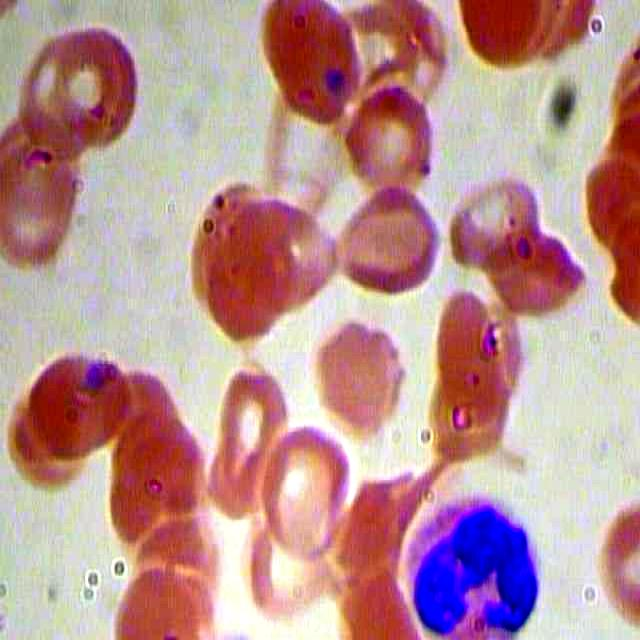RBC: (192, 200, 302, 347), (200, 355, 293, 521), (252, 423, 359, 557), (330, 177, 442, 303), (254, 1, 366, 124), (27, 337, 136, 459), (334, 77, 443, 199), (307, 314, 409, 438), (52, 22, 140, 150), (477, 220, 590, 317), (444, 172, 550, 272)
WBC: (400, 493, 547, 640)
